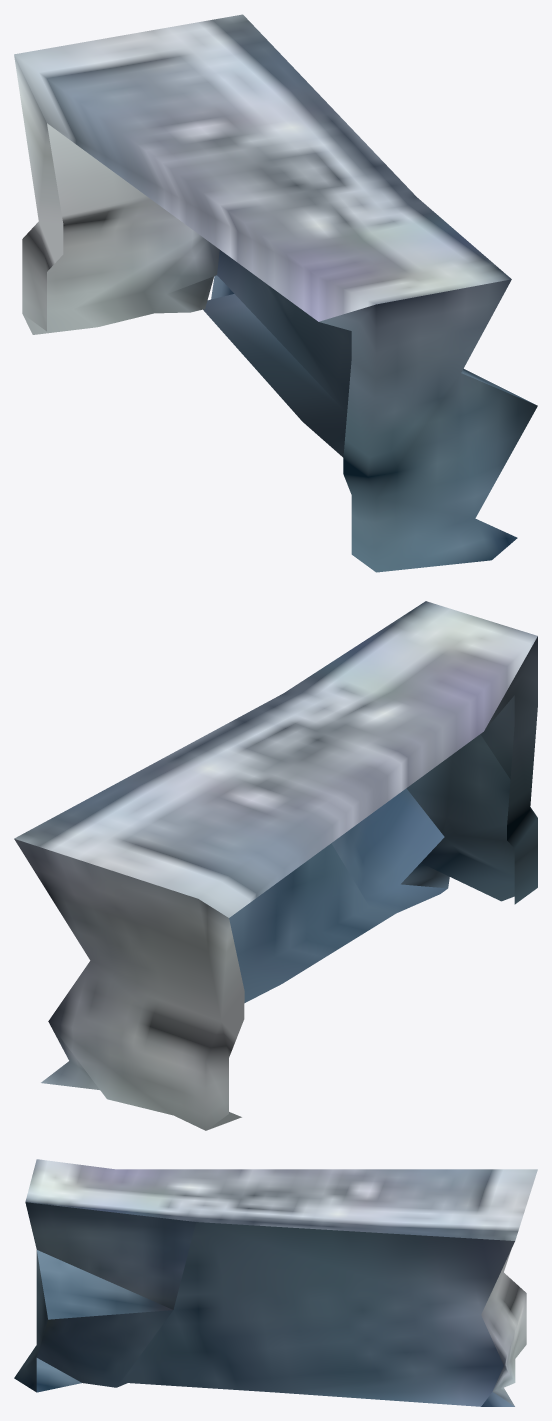
The picture shows the model from 3 angles, top to bottom: view 1: azimuth 30°, elevation 25°; view 2: azimuth 150°, elevation 25°; view 3: azimuth 270°, elevation 25°; orthographic projection. The views are drawn at different scales.
Visible parts, largest first — view 1: 30436272704370615763_0; view 2: 30436272704370615763_0; view 3: 30436272704370615763_0.
Part boxes in pixels (box(x1,y1,x2,y2)): 30436272704370615763_0: box(14, 14, 537, 572); 30436272704370615763_0: box(14, 601, 537, 1130); 30436272704370615763_0: box(14, 1159, 537, 1406).
Bounding box in the file's own units: 2.45 × 2.77 × 7.1.
Materials: 1 (1 with a texture image).
